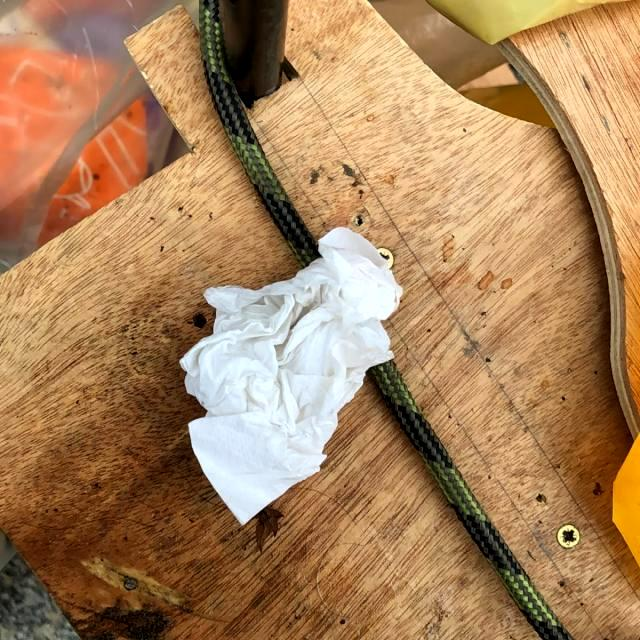Paper: (176, 220, 408, 530)
